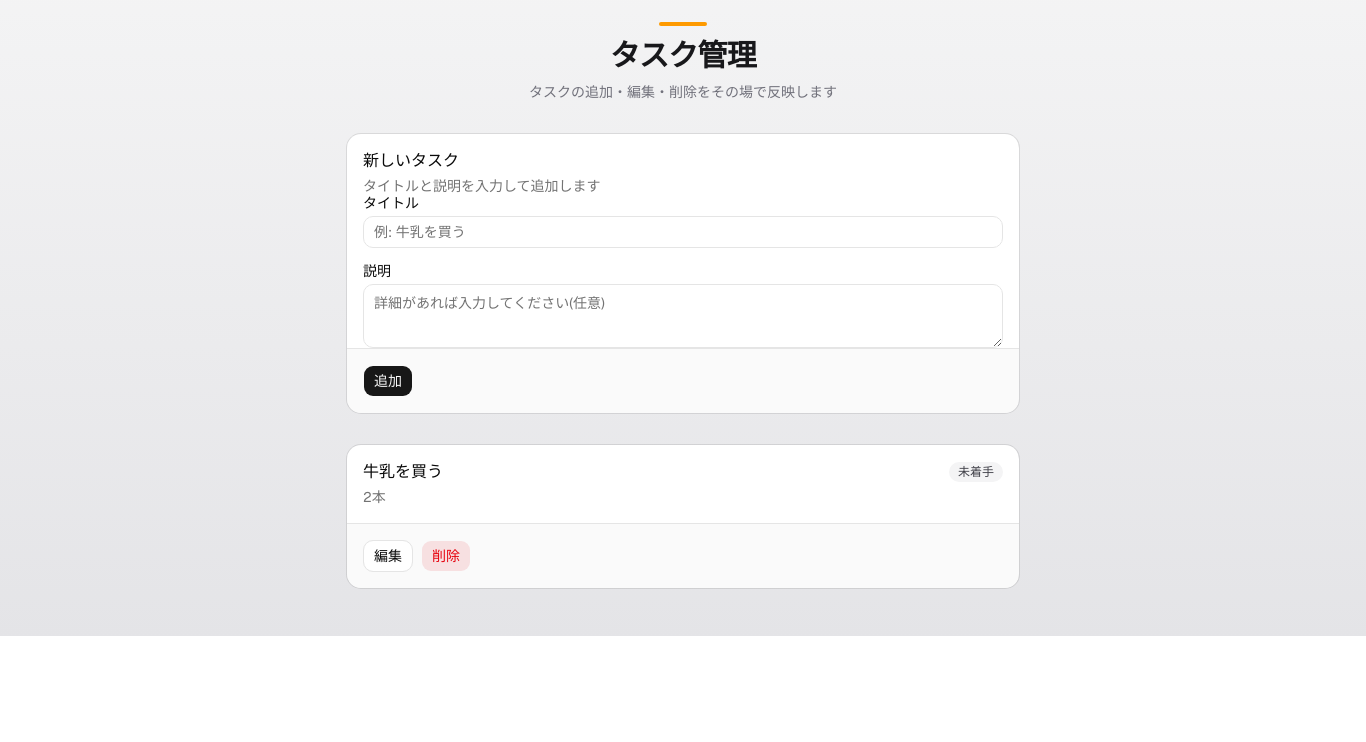
Test: TaskBoard タスクの編集 › 異常系: 更新に失敗すると編集フォーム内にエラー表示され編集モードは維持される
This screenshot has width=1366, height=742.
Check: the text "牛乳を買う" is shown, box [363,461,443,482]
Click the button "編集": {"x": 388, "y": 556} [363,540,413,572]
(page scrolled)
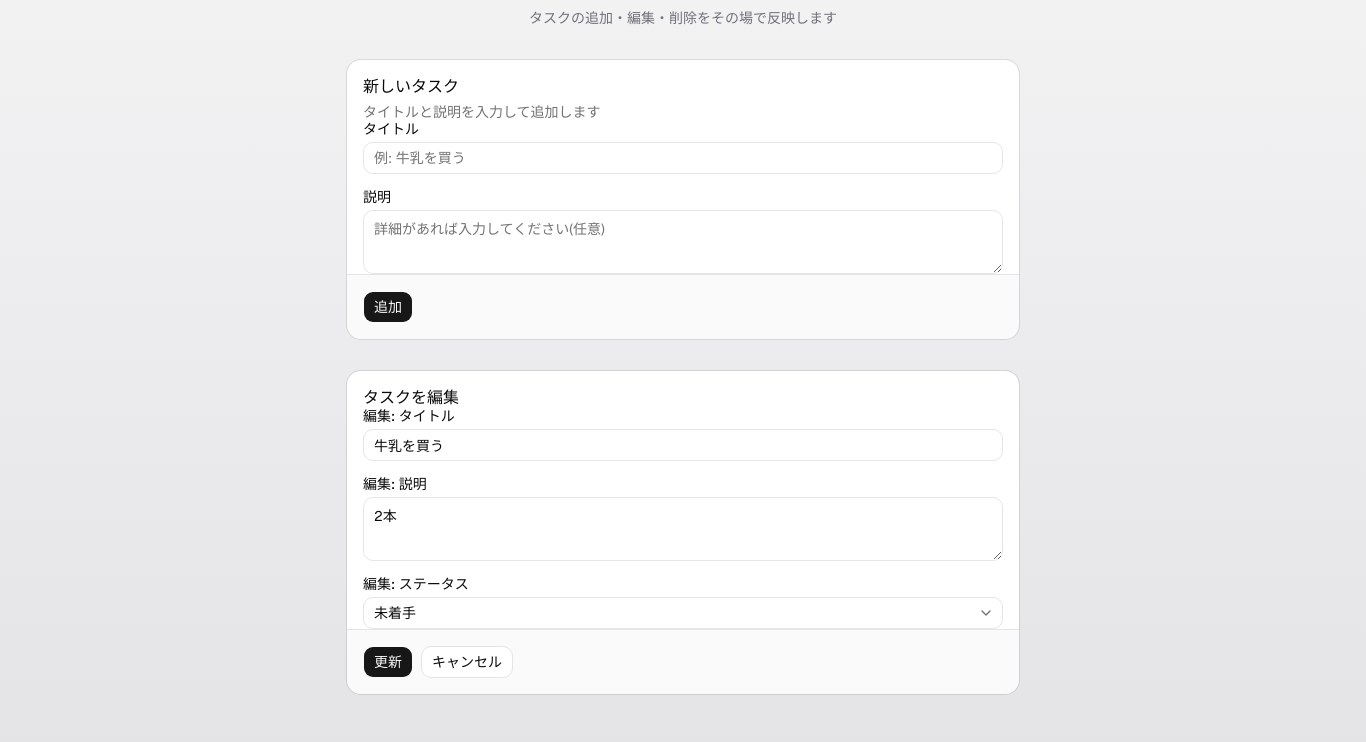
Click the button "更新": {"x": 388, "y": 662} [363,646,413,678]
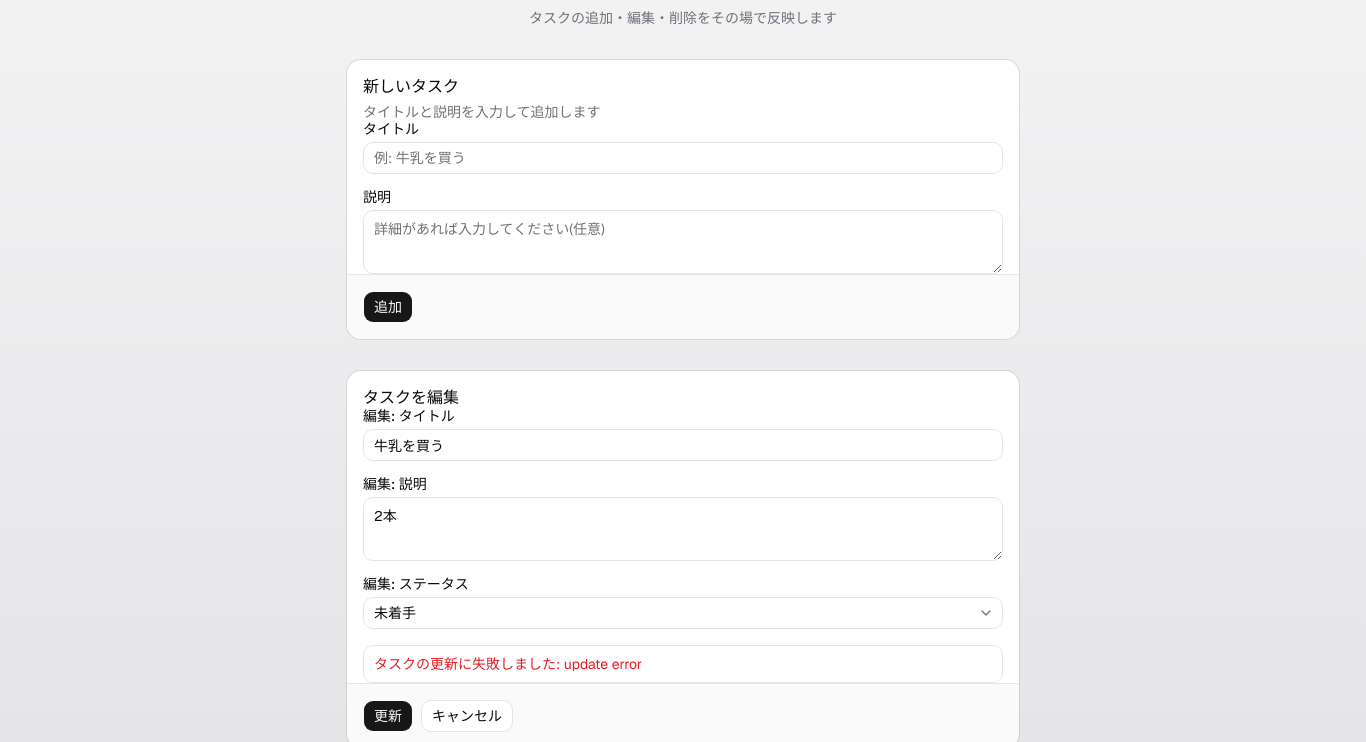
Check: the field labelled "編集: タイトル" is shown, box [363,429,1003,461]
Check: the text "タスクの更新に失敗しました: update error" is shown, box [374,655,642,673]
